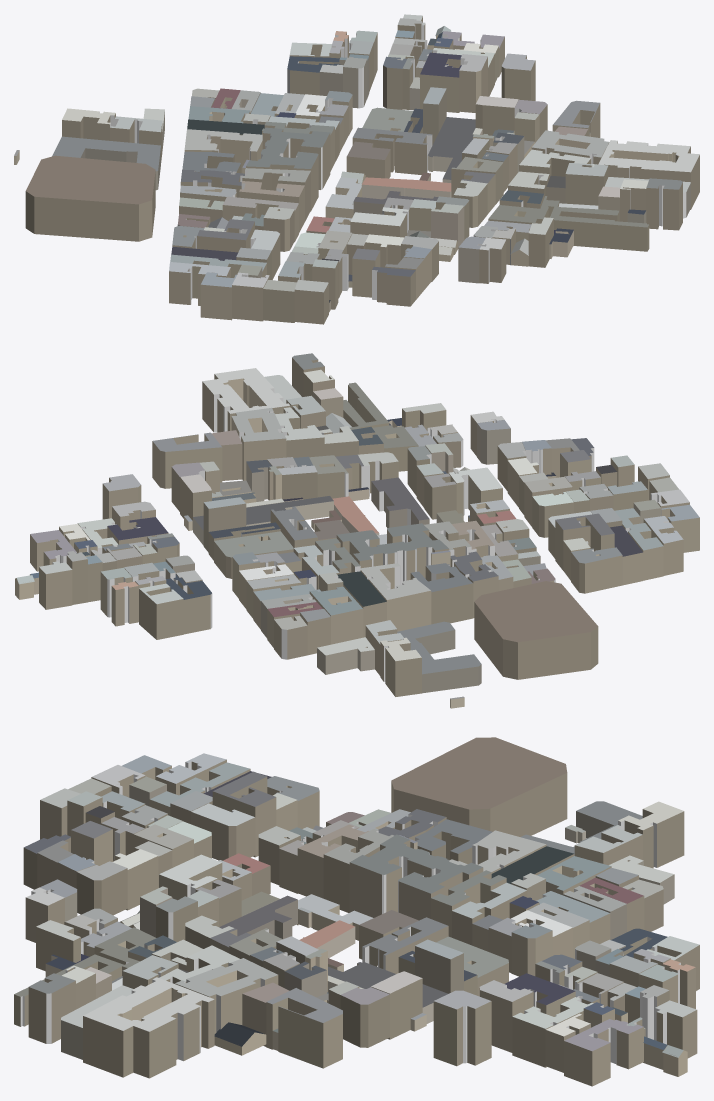
3 renders of one model, top to bottom at view 1: azimuth 30°, elevation 25°; view 2: azimuth 150°, elevation 25°; view 3: azimuth 270°, elevation 25°, orthographic. The views are drawn at different scales.
Visible parts, largest first — view 1: tuile; view 2: tuile; view 3: tuile.
Part boxes in pixels (bbox=[...]): tuile: bbox=[14, 14, 699, 324]; tuile: bbox=[15, 353, 699, 708]; tuile: bbox=[14, 737, 699, 1086].
Bounding box in the file's own units: 295 × 34.07 × 269.
